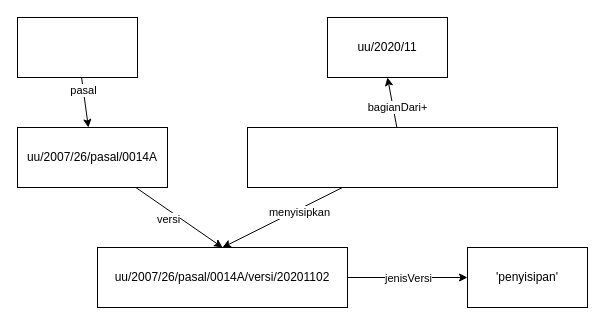
Some shapes in this 605 by 325 pixel diagram are drawn without their labels. Here are the shapes that lost their labels. From the top down, the box of each, then its label:
(16, 16, 138, 78): uu/2007/26
(246, 126, 558, 188): uu/2020/11/pasal/0017/versi/20201102/huruf/0008
